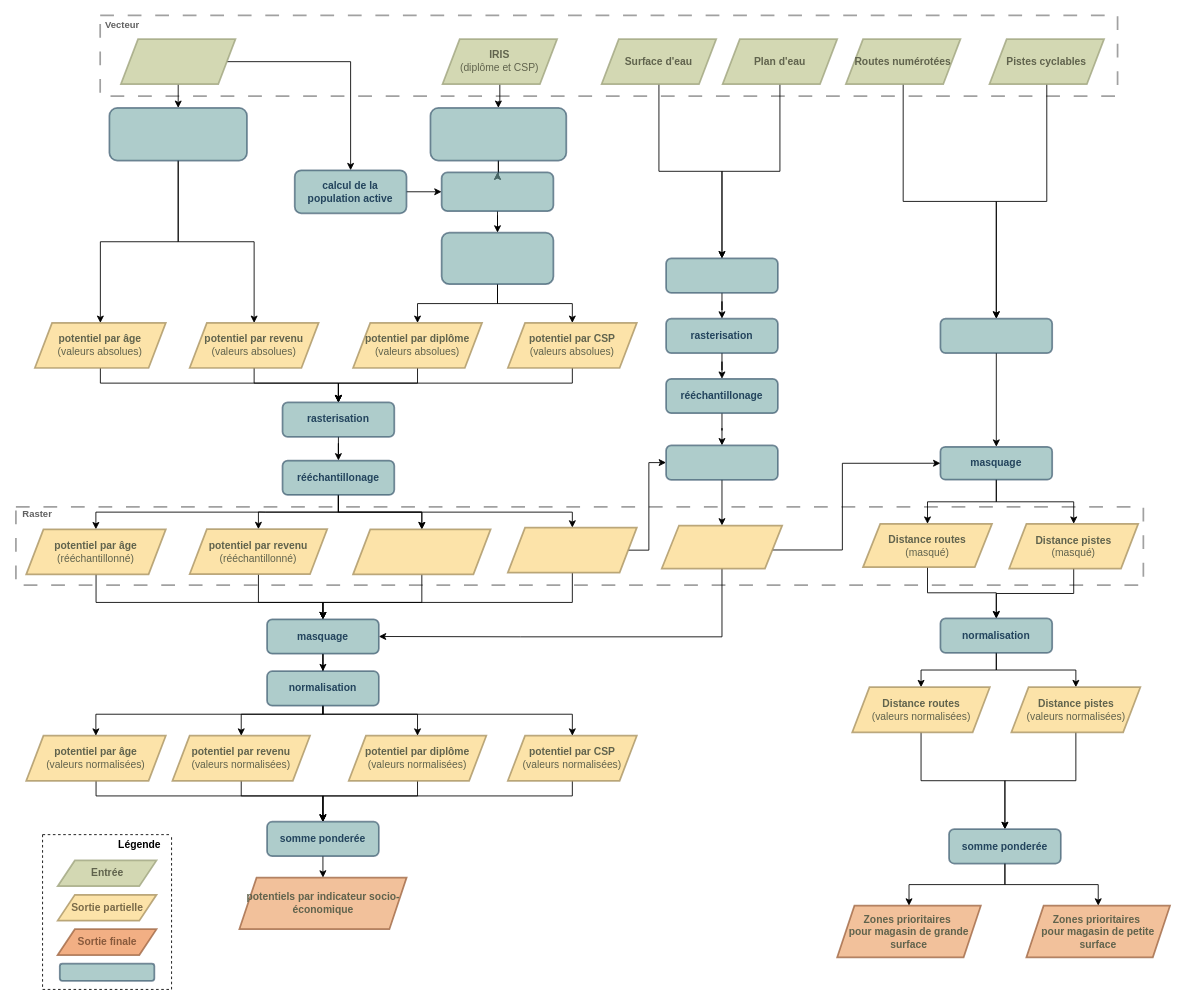
The diagram is 1185 pixels wide and 1005 high, and some of its shapes have lost their labels. Each missing label, with the box of its shape:
binarisation: (665, 444, 778, 480)
calcul % de comsommateurs (par carreau): (108, 107, 247, 161)
calcul % de la population dans chaque catégorie (par IRIS): (429, 107, 567, 161)
calcul de la distance: (939, 317, 1053, 353)
Carreaux Filosofi (âge et revenu): (120, 38, 236, 85)
Estimation de la population dans chaque catégorie: (440, 231, 554, 285)
fusion: (665, 257, 778, 293)
intersection: (440, 171, 554, 212)
Masque (eau + carreaux): (660, 524, 783, 569)
potentiel par CSP (rééchantillonné): (507, 526, 637, 573)
potentiel par diplôme (rééchantillonné): (352, 528, 491, 575)
Traitement/Calcul: (58, 962, 155, 981)
